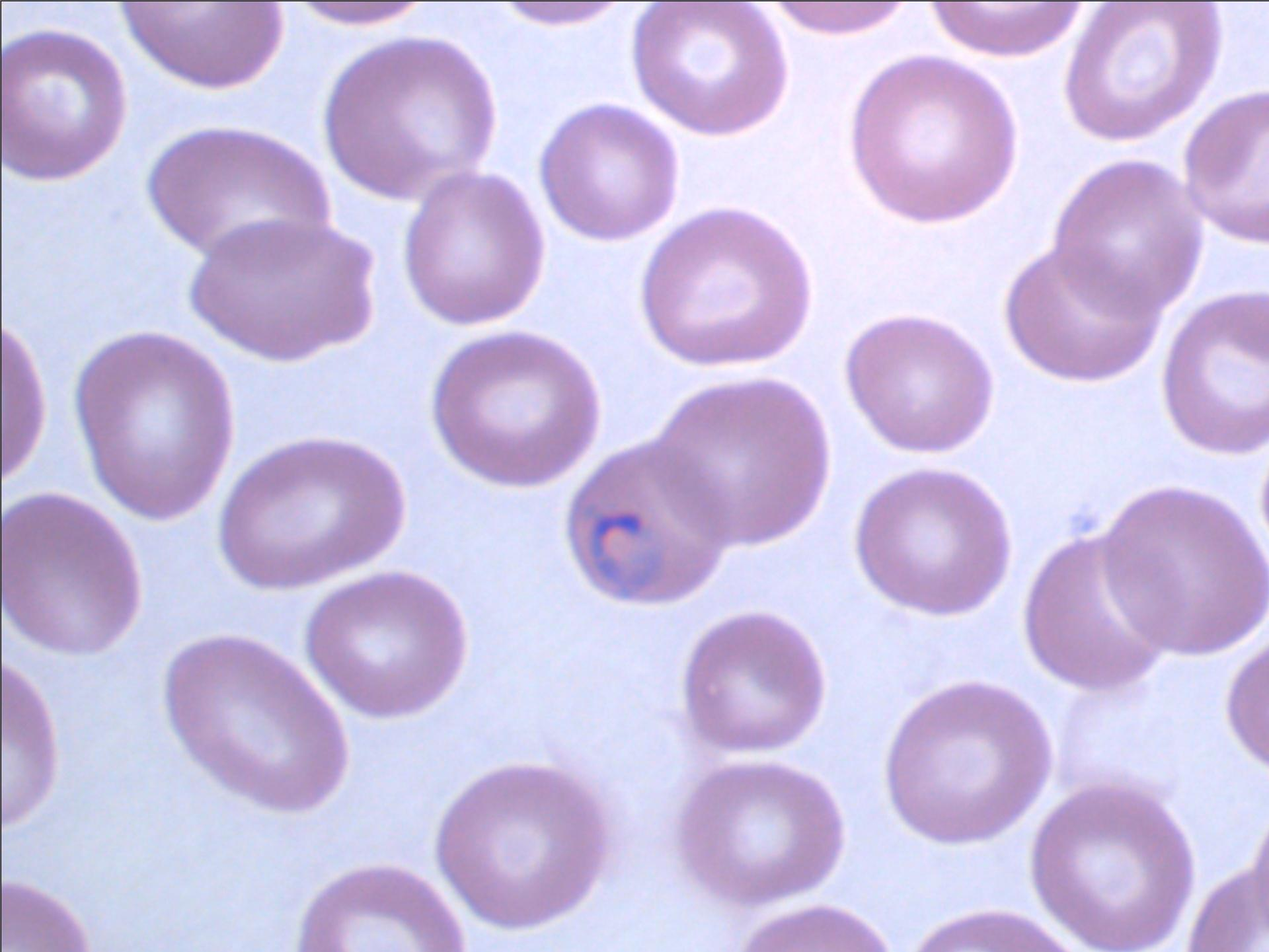Infected: (568, 440, 725, 604)
Uninfected: (167, 640, 348, 814), (653, 379, 828, 543), (1100, 488, 1269, 651), (79, 337, 231, 518), (220, 440, 402, 586), (853, 55, 1013, 221), (1033, 787, 1191, 952), (643, 208, 810, 362), (440, 765, 599, 926), (330, 40, 492, 198), (887, 686, 1049, 844), (188, 222, 371, 359), (152, 126, 326, 269), (436, 339, 595, 483), (676, 763, 837, 905), (1024, 535, 1173, 686), (307, 570, 461, 716), (1064, 0, 1221, 141), (1056, 157, 1197, 313), (0, 496, 141, 651), (634, 0, 787, 135), (858, 474, 1009, 610), (404, 181, 540, 326), (849, 317, 992, 454), (687, 613, 824, 754), (1006, 251, 1151, 380), (0, 28, 119, 177), (544, 104, 676, 238), (1162, 293, 1269, 452), (129, 0, 282, 90), (1185, 93, 1269, 244)
